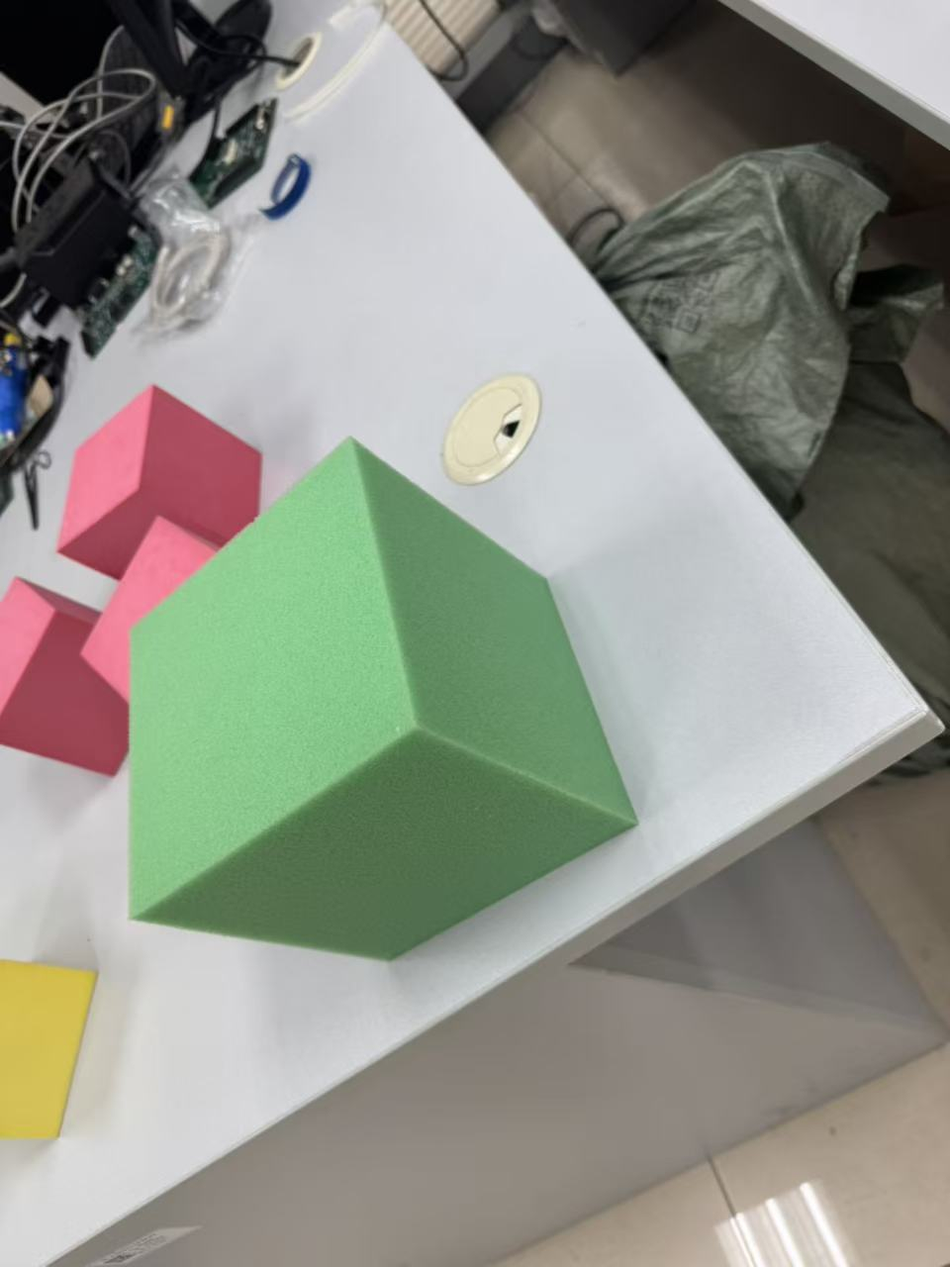green_large: (126, 440, 641, 962)
red_small: (58, 383, 260, 591), (0, 574, 141, 775)
